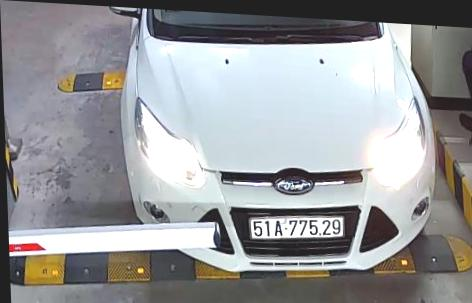License_Plate: (243, 209, 348, 246)
